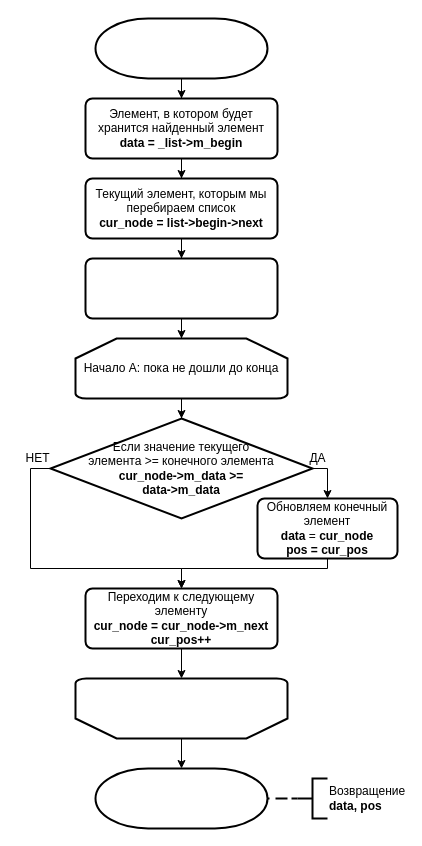
Some shapes in this 422 by 846 pixel diagram are drawn without their labels. The box of each missing label's shape, as (x1, y1, x2, y2) in pixels:
Конец list_find_max_elem: (94, 767, 268, 829)
Конец А: (74, 677, 288, 739)
Начало list_find_max_elem: (94, 17, 268, 79)
Позиция максимума pos = 0 Текущая позиция cur_pos = 0: (84, 257, 278, 319)
